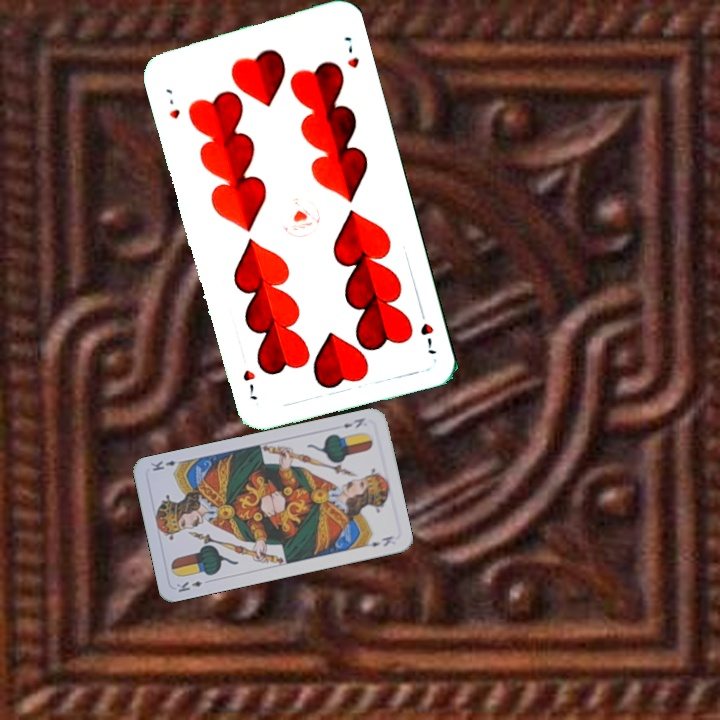EK: (172, 577, 205, 595), (339, 414, 367, 431)
H7: (414, 302, 439, 357), (161, 84, 183, 122)
